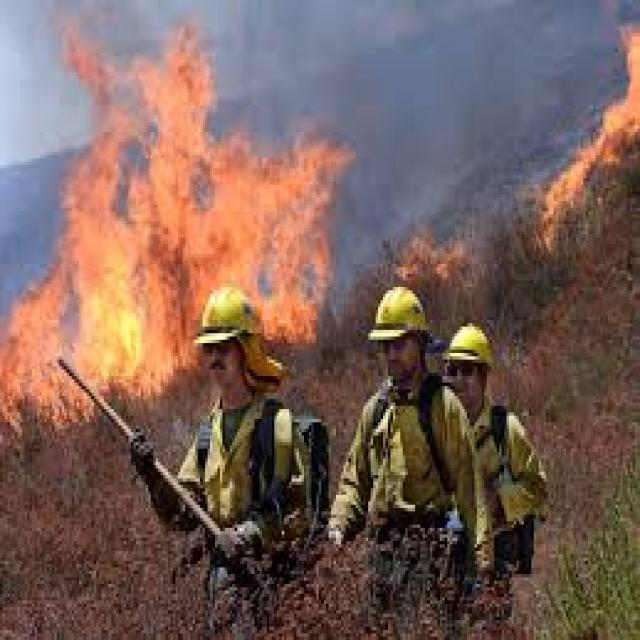Fire: (0, 10, 193, 439), (530, 0, 640, 247), (204, 119, 326, 332), (390, 220, 470, 280)
